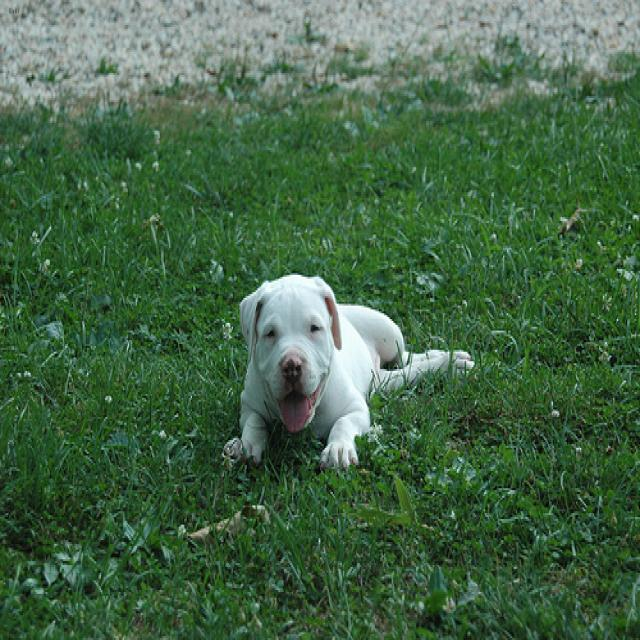dog-american_bulldog: (214, 269, 481, 477)
